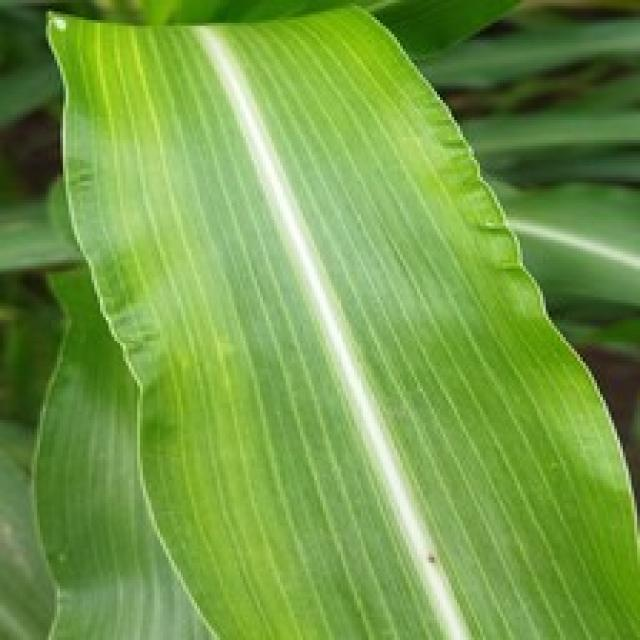Corn: (40, 0, 637, 637)
